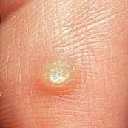Wart: (37, 57, 74, 90)
